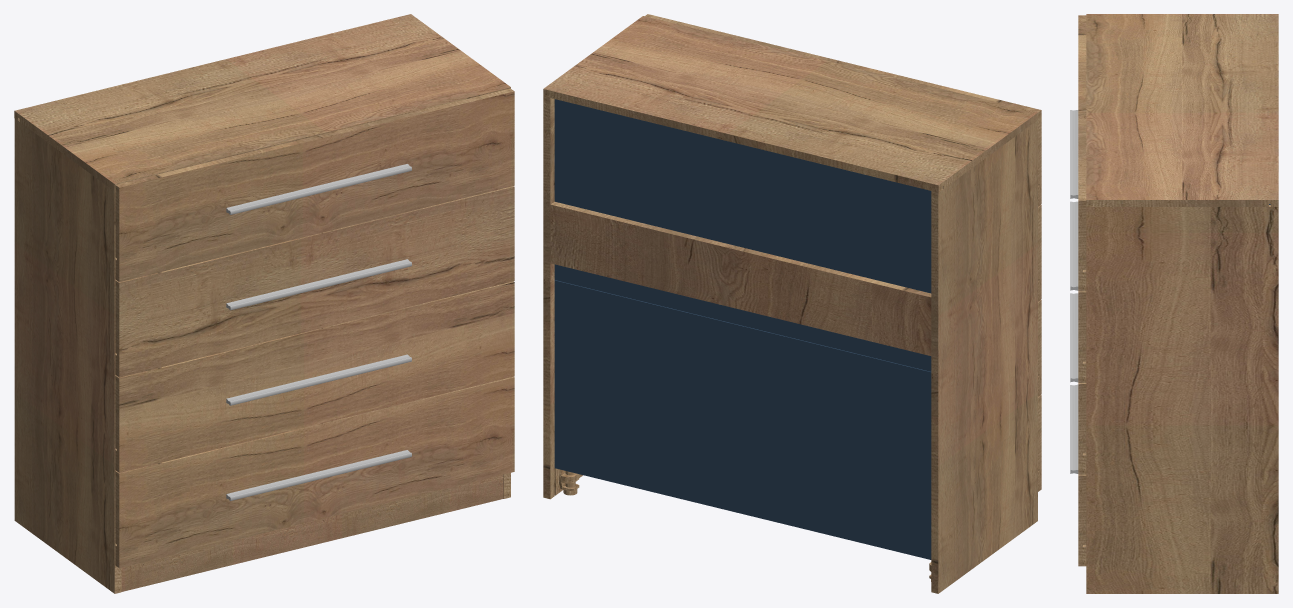
File: shkafchik2.glb
3 views of the same model, side by side, from view 1: azimuth 30°, elevation 25°; view 2: azimuth 150°, elevation 25°; view 3: azimuth 270°, elevation 25° (orthographic). The views are drawn at different scales.
Visible parts, largest first — view 1: Box001; view 2: Box001; view 3: Box001.
Part boxes in pixels (bbox=[...]): Box001: bbox=[14, 14, 514, 593]; Box001: bbox=[543, 14, 1041, 593]; Box001: bbox=[1070, 14, 1278, 593].
Size of the model in its own units: 0.1156 by 0.1146 by 0.0548.
Materials: 3 (3 with a texture image).
